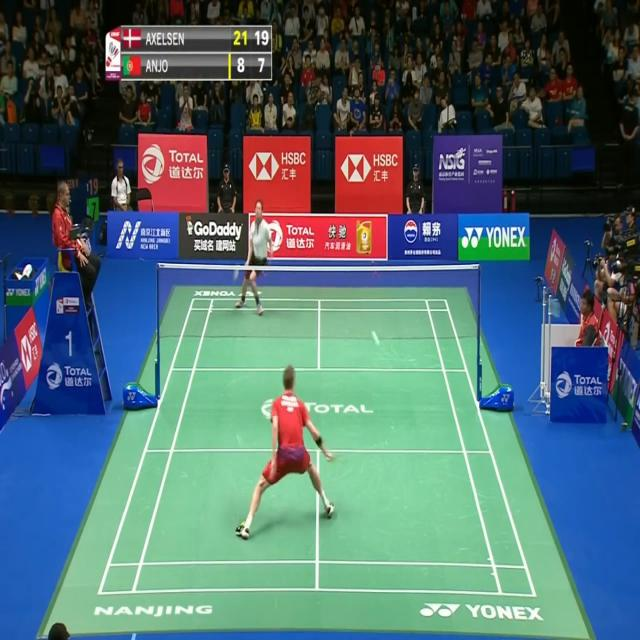Player1: (233, 360, 343, 544)
Player2: (232, 200, 274, 314)
